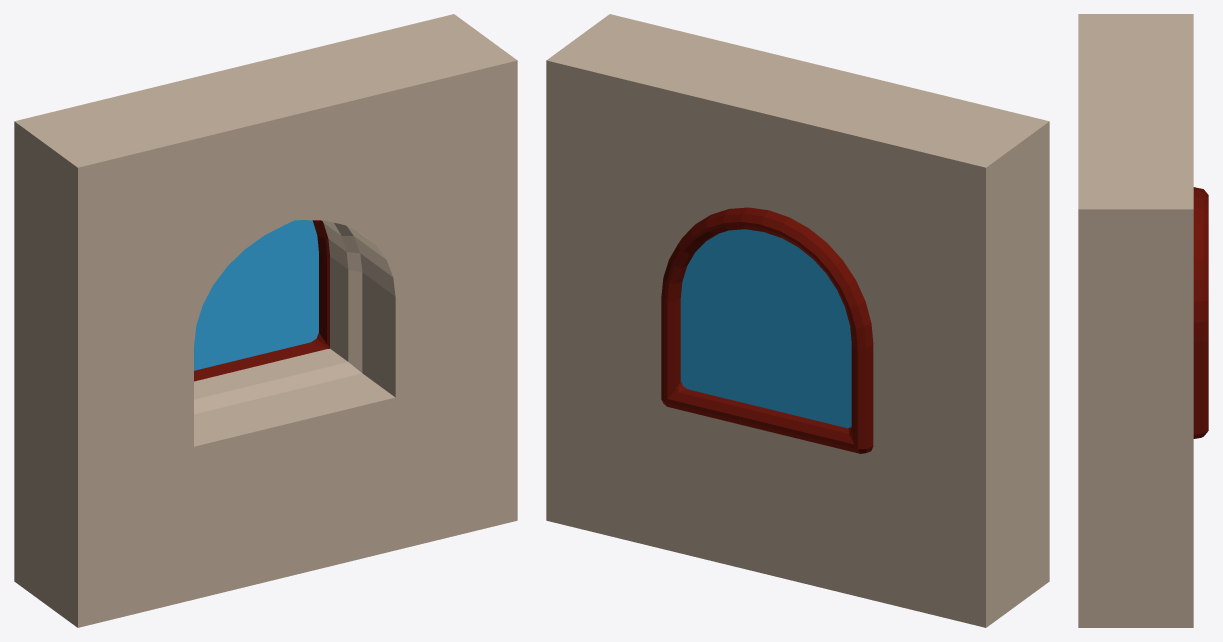
The model's file is WindowNormal-1.glb.
The picture shows the model from 3 angles, left to right: view 1: azimuth 30°, elevation 25°; view 2: azimuth 150°, elevation 25°; view 3: azimuth 270°, elevation 25°; orthographic projection. The views are drawn at different scales.
Visible parts, largest first — view 1: WindowNormal-1-col; view 2: WindowNormal-1-col; view 3: WindowNormal-1-col.
Part boxes in pixels (left/top/right/bottom): WindowNormal-1-col: left=14, top=14, right=517, bottom=627; WindowNormal-1-col: left=546, top=14, right=1049, bottom=627; WindowNormal-1-col: left=1078, top=14, right=1208, bottom=627.
Size of the model in its own units: 2 by 2 by 0.5647.
